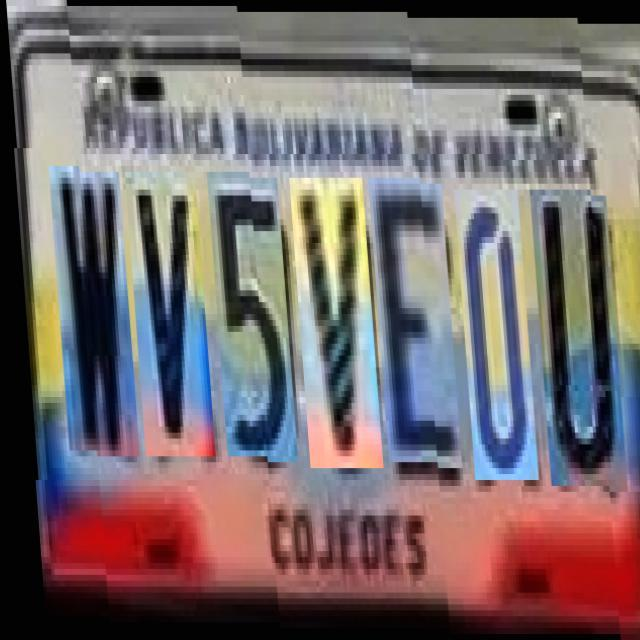0: (450, 178, 530, 468)
5: (204, 172, 291, 456)
E: (365, 172, 455, 456)
U: (526, 178, 619, 474)
V: (286, 172, 376, 462), (122, 172, 209, 456)
W: (46, 172, 134, 456)
